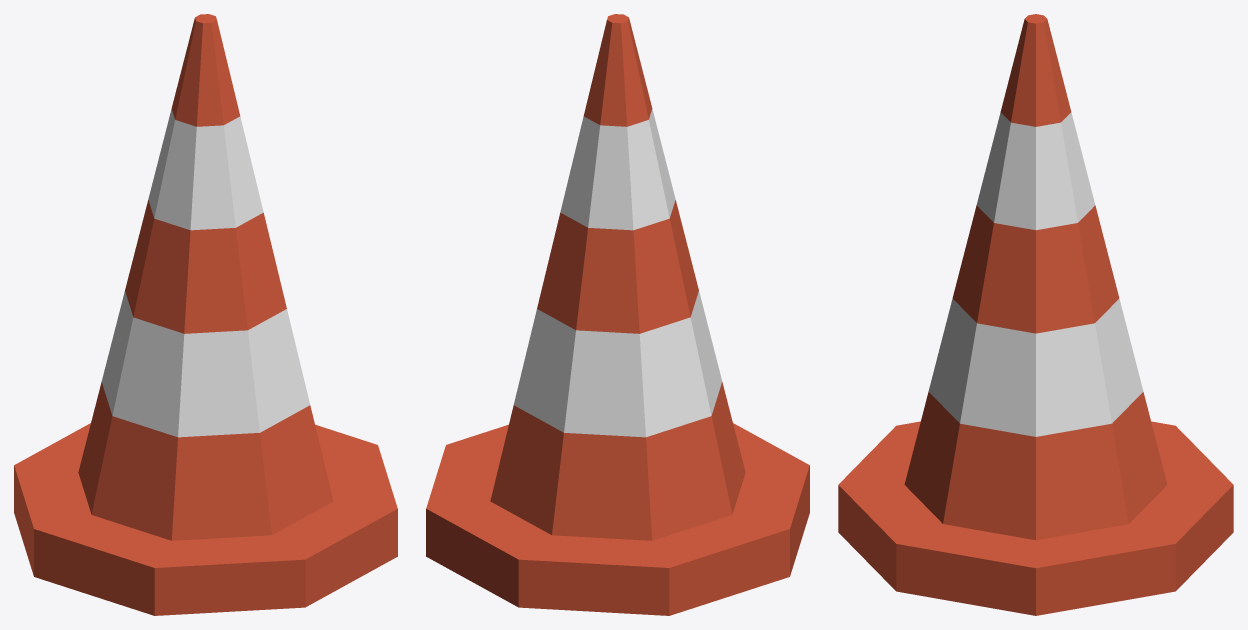
3 views of the same model, side by side, from view 1: azimuth 30°, elevation 25°; view 2: azimuth 150°, elevation 25°; view 3: azimuth 270°, elevation 25° (orthographic).
Visible parts, largest first — view 1: Plane; view 2: Plane; view 3: Plane.
Boxes of the visible parts, box(x1,y1,x2,y2) form: Plane: box(14, 14, 397, 615); Plane: box(426, 14, 809, 615); Plane: box(838, 14, 1233, 615).
Bounding box in the file's own units: 2.41 × 3.46 × 2.41.
1 material, 1 textured.
